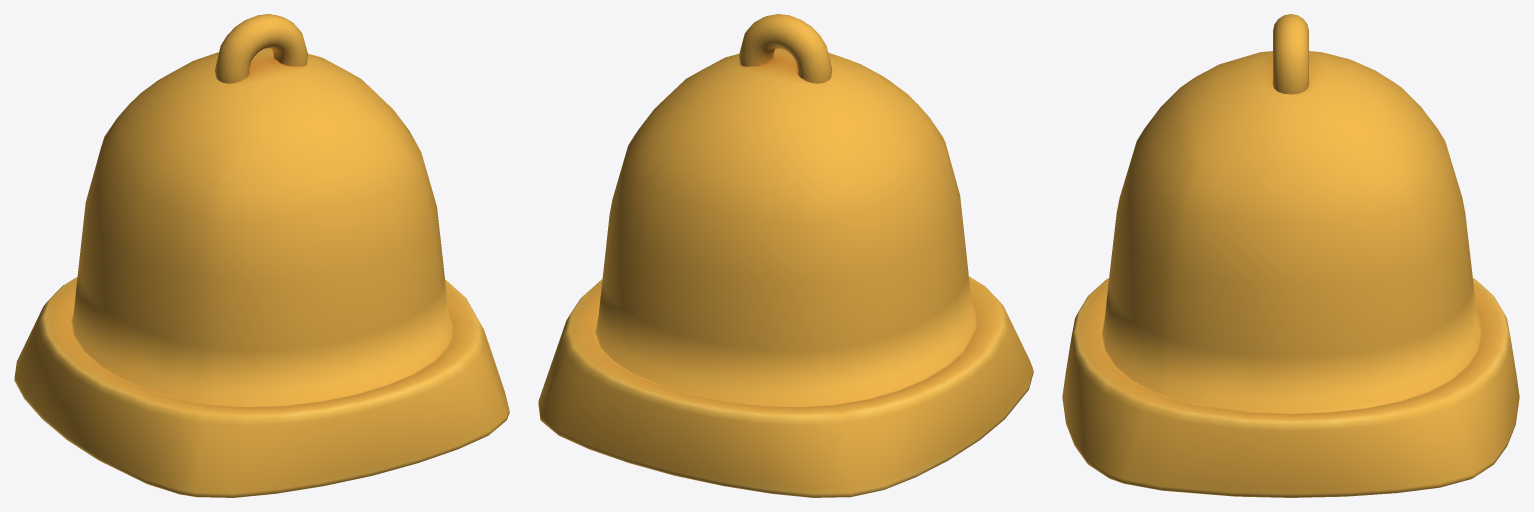
The model's file is Sine.fbx.
3 renders of one model, left to right at view 1: azimuth 30°, elevation 25°; view 2: azimuth 150°, elevation 25°; view 3: azimuth 270°, elevation 25°, orthographic.
Parts seen in each view (by area): view 1: sine; view 2: sine; view 3: sine.
Boxes of the visible parts, x1=… form: sine: x1=14, y1=14, x2=509, y2=497; sine: x1=538, y1=14, x2=1033, y2=497; sine: x1=1062, y1=14, x2=1519, y2=497.
Bounding box in the file's own units: 0.9889 × 1.02 × 0.9889.
